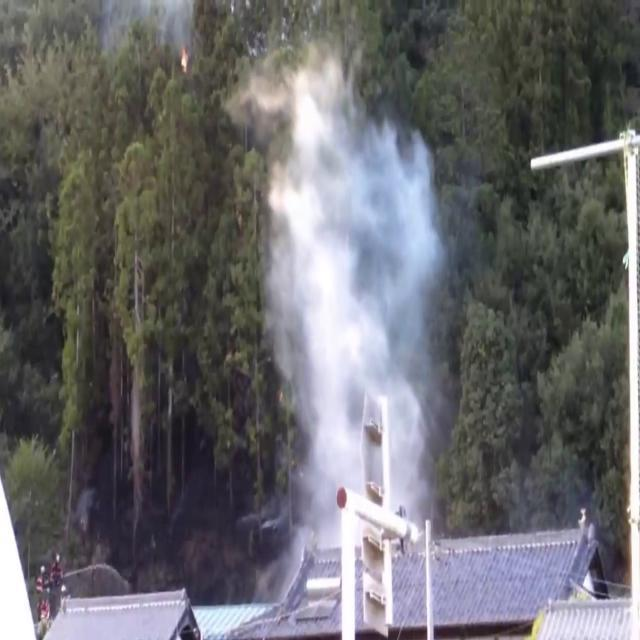Smoke: (257, 42, 448, 488)
